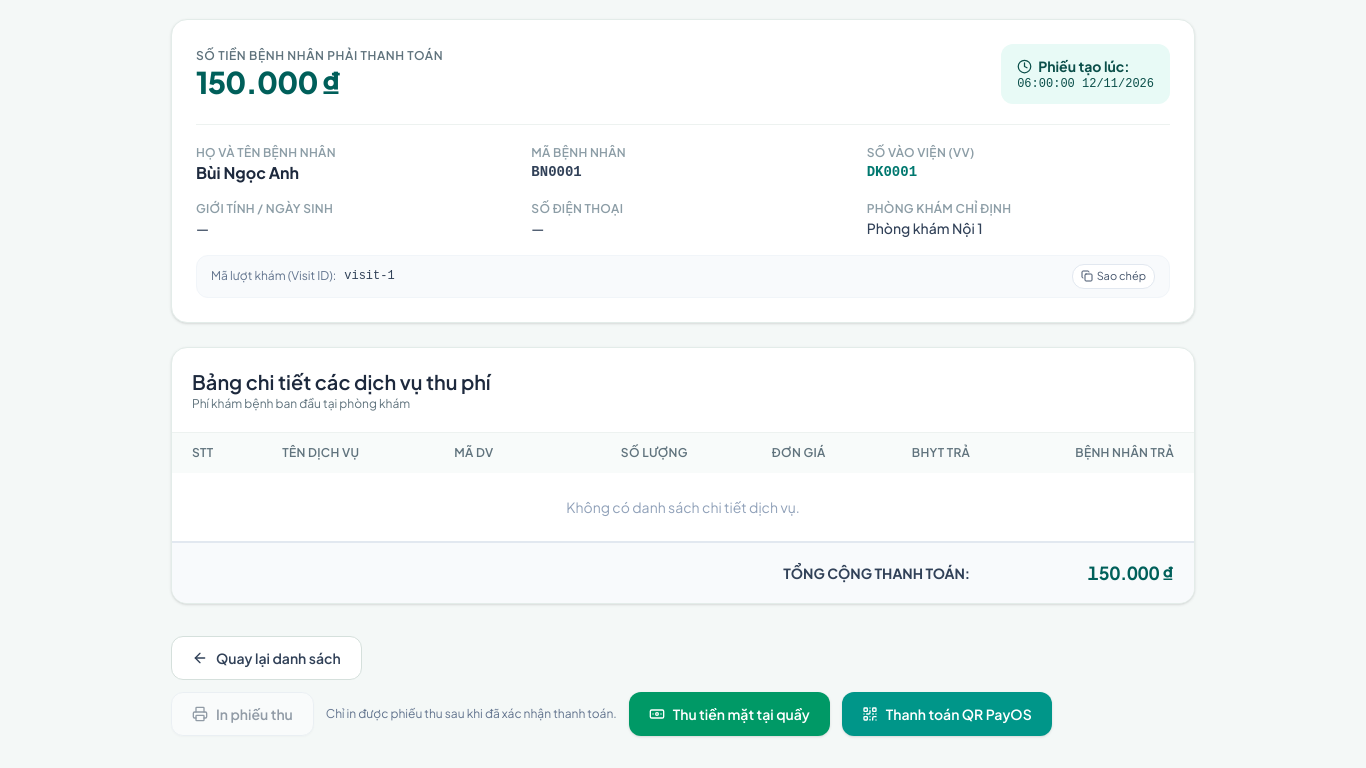
Test case: PaymentDetailPage – after confirming a payment (UC-71) › opens the queue-number ticket right after the examination fee is paid
(page scrolled)
Click the button "Thu tiền mặt tại quầy" at (729, 714), box [629,692,830,736]
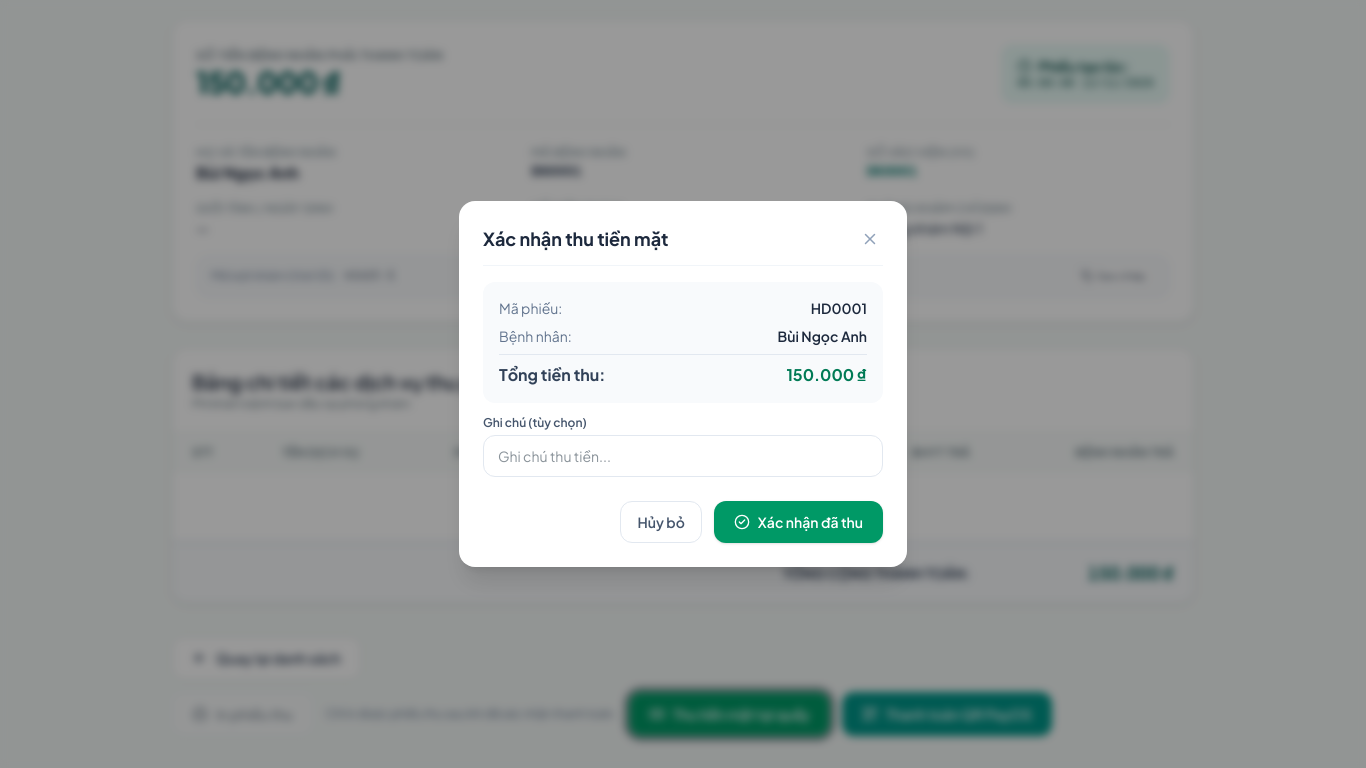
Click the button "Xác nhận đã thu" at (798, 522), box [714,501,883,543]
(page scrolled)
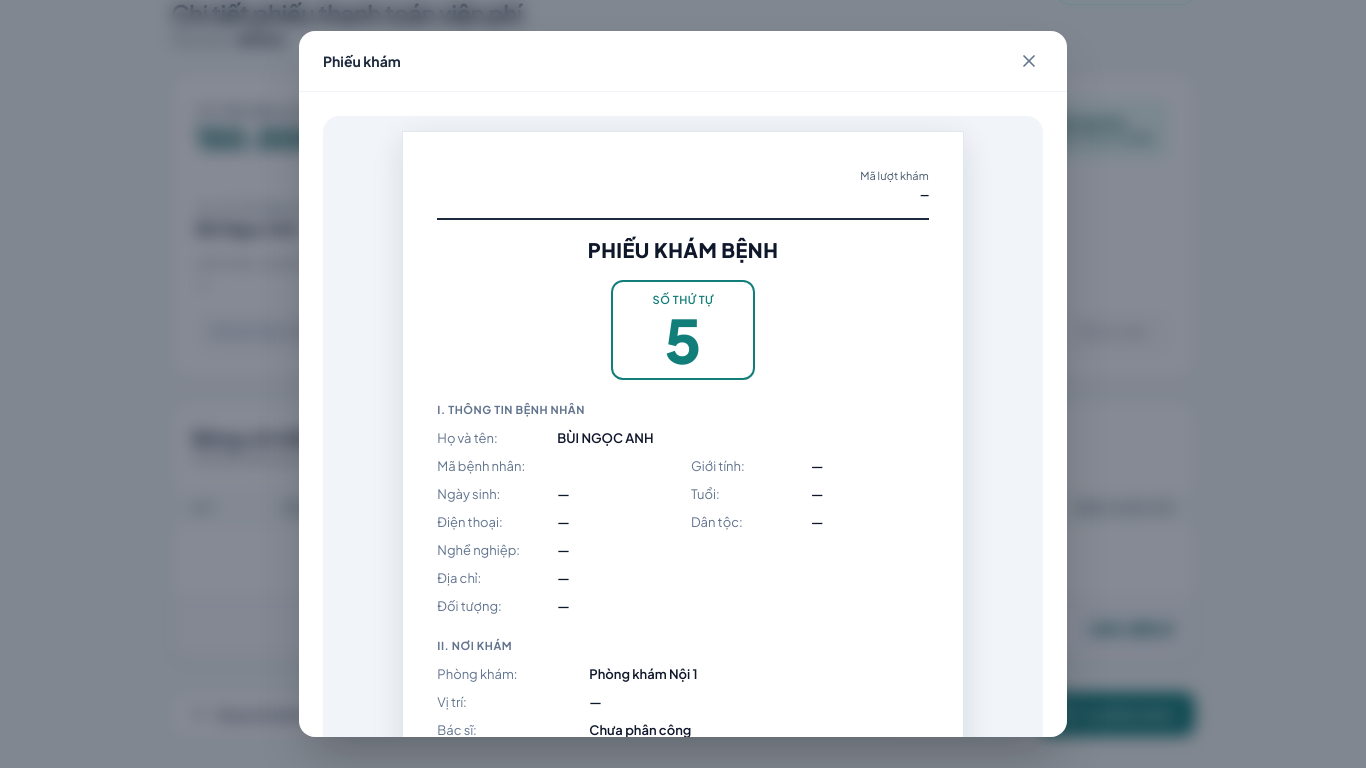
expect the dialog "Phiếu khám" is shown: met, box [299,31,1067,737]
